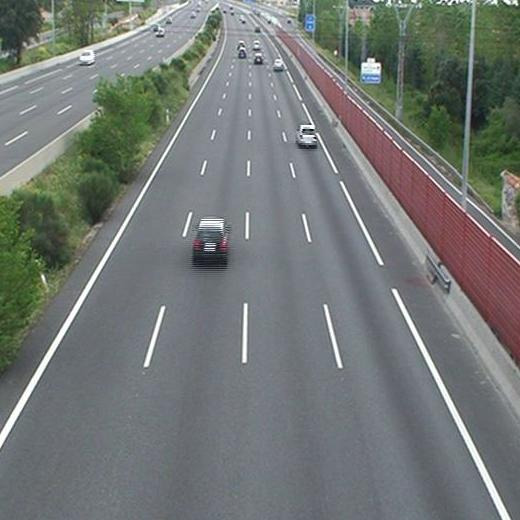car: (193, 219, 227, 261), (296, 126, 317, 145), (272, 60, 284, 71), (253, 54, 262, 63), (237, 49, 246, 58), (252, 41, 260, 50), (237, 40, 245, 48)
